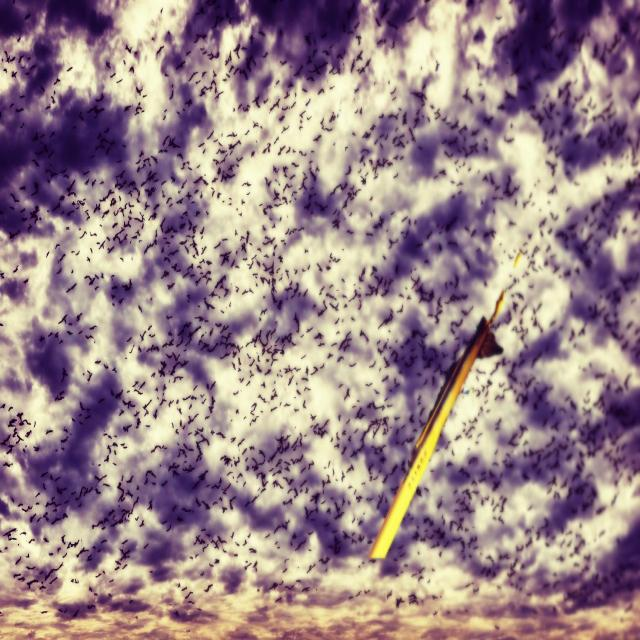airplane: (367, 286, 506, 560)
